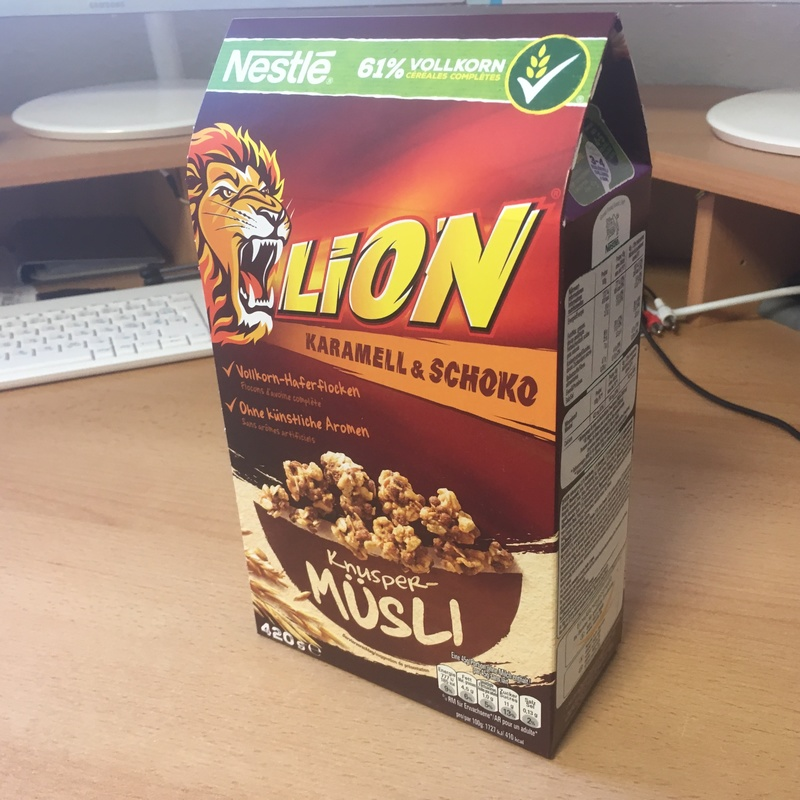cereals: (188, 10, 651, 765)
